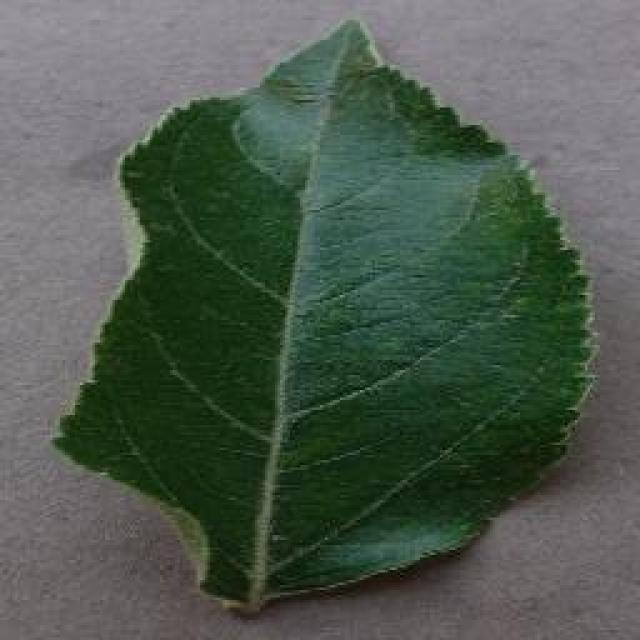apple healthy: (50, 15, 600, 615)
